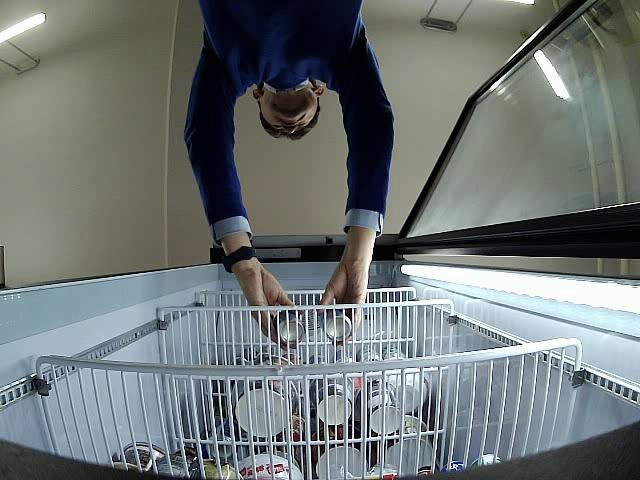00_hand: (320, 235, 376, 342), (238, 265, 299, 350)
